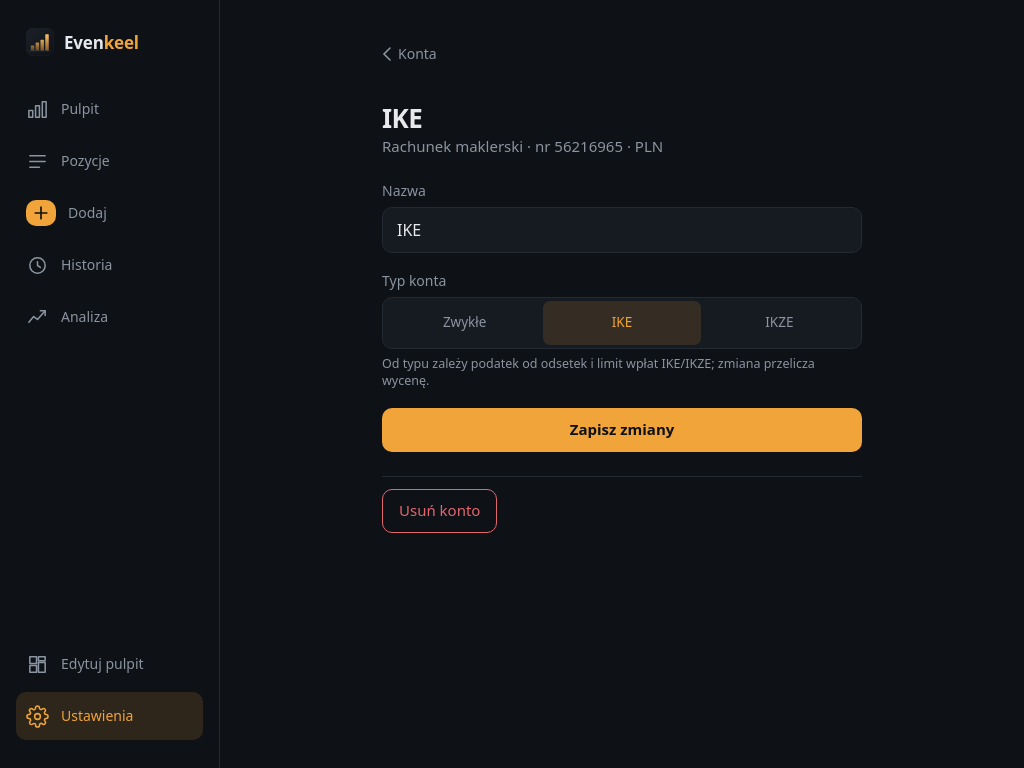
account settings › renames the account and changes its type
Replace the text in the field labelled "Nazwa" with "XTB IKE": [622, 230] box [382,207,862,253]
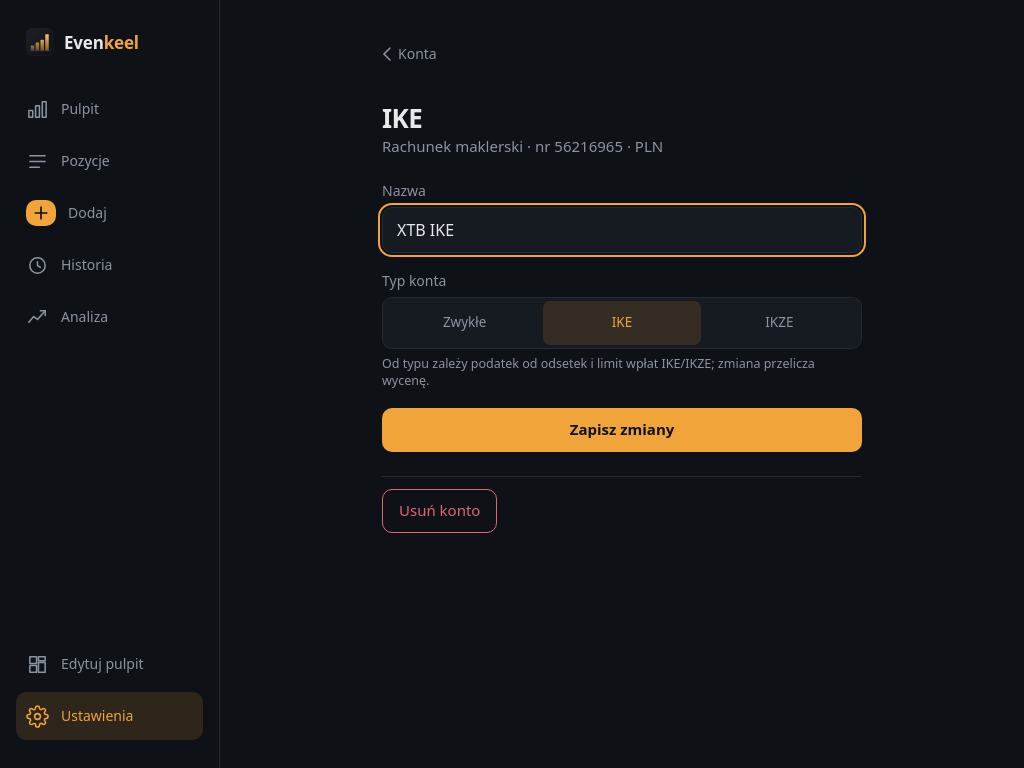
Click the button "IKZE": [779, 323] box [701,301,858,345]
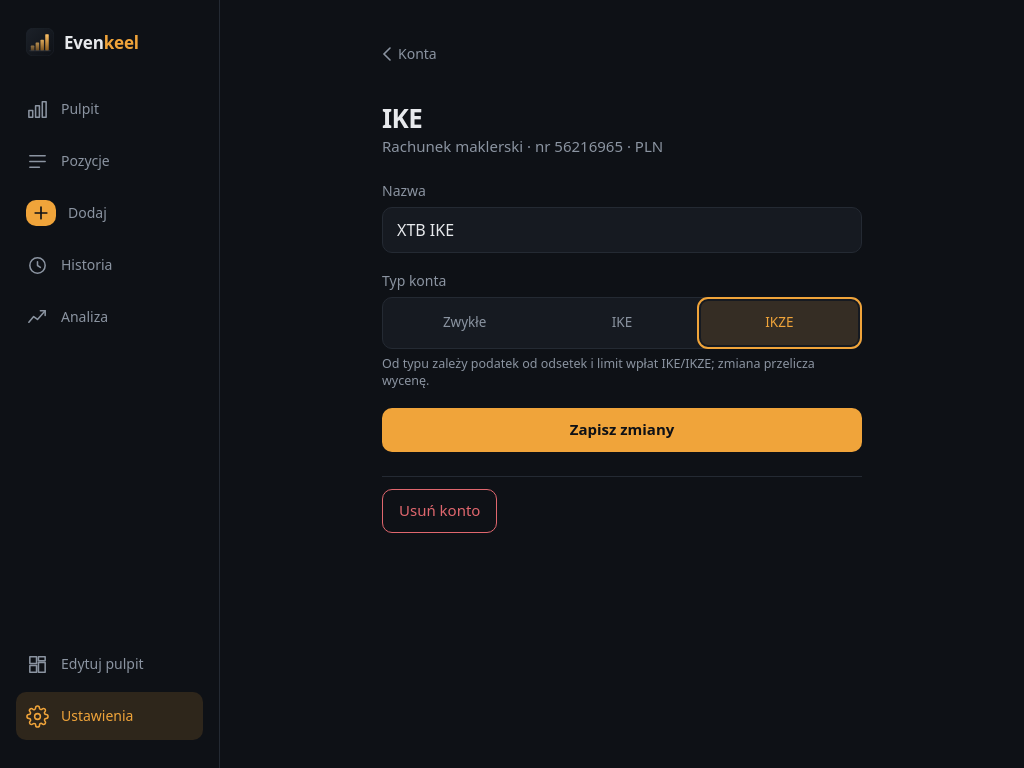
Click the button "Zapisz zmiany": [622, 430] box [382,408,862,452]
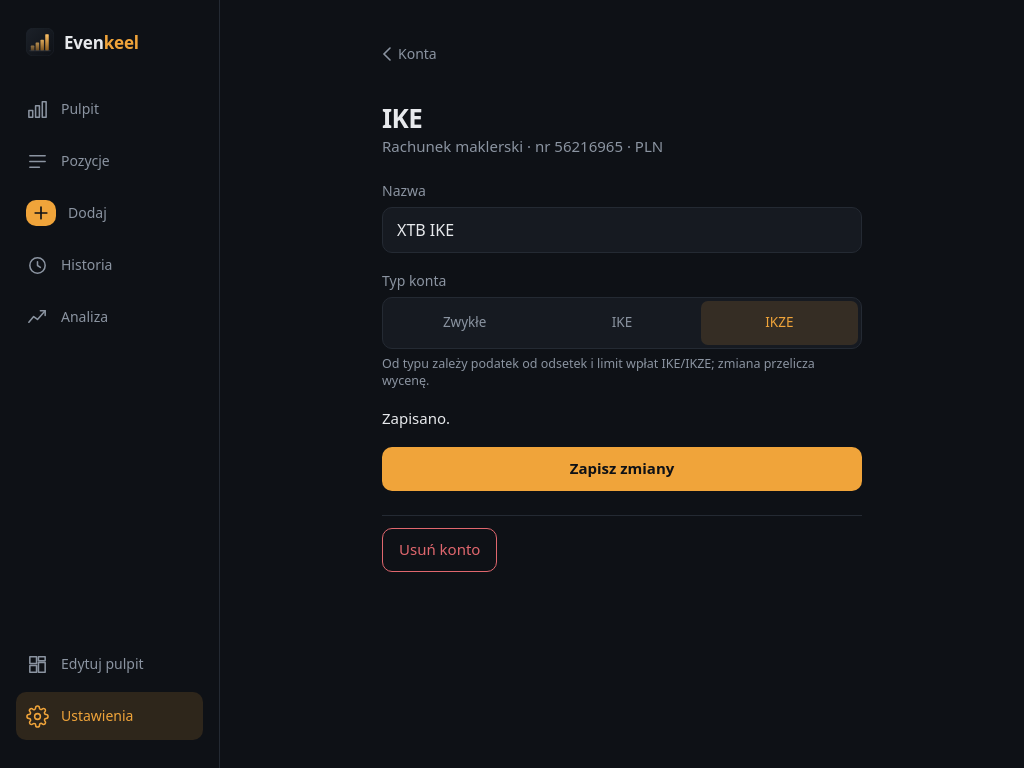
expect the text "Zapisano." is shown: met, box [382,408,450,428]
